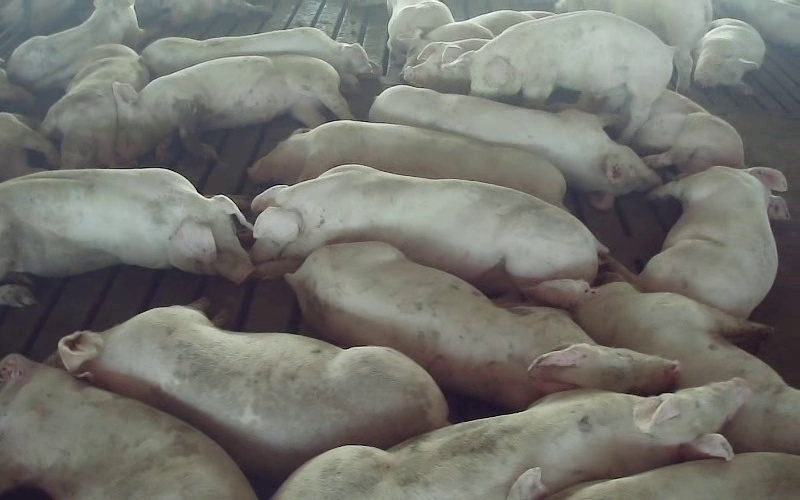pig: (58, 307, 446, 486), (286, 242, 679, 409), (275, 378, 749, 499), (534, 281, 799, 453), (369, 86, 660, 208), (446, 11, 673, 142), (598, 166, 788, 317), (113, 56, 351, 160), (141, 27, 379, 91), (38, 44, 148, 167), (630, 90, 743, 176), (694, 18, 765, 94), (404, 39, 486, 93)
